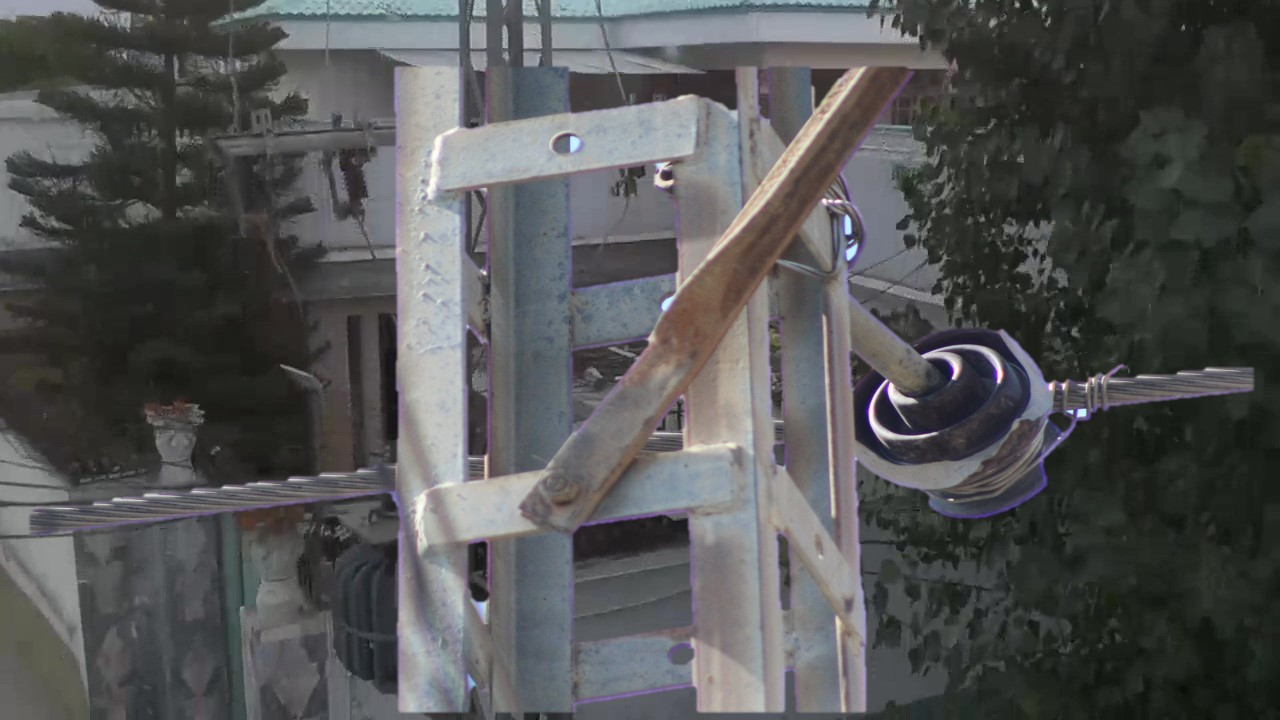defect_pin: (855, 310, 1069, 530)
